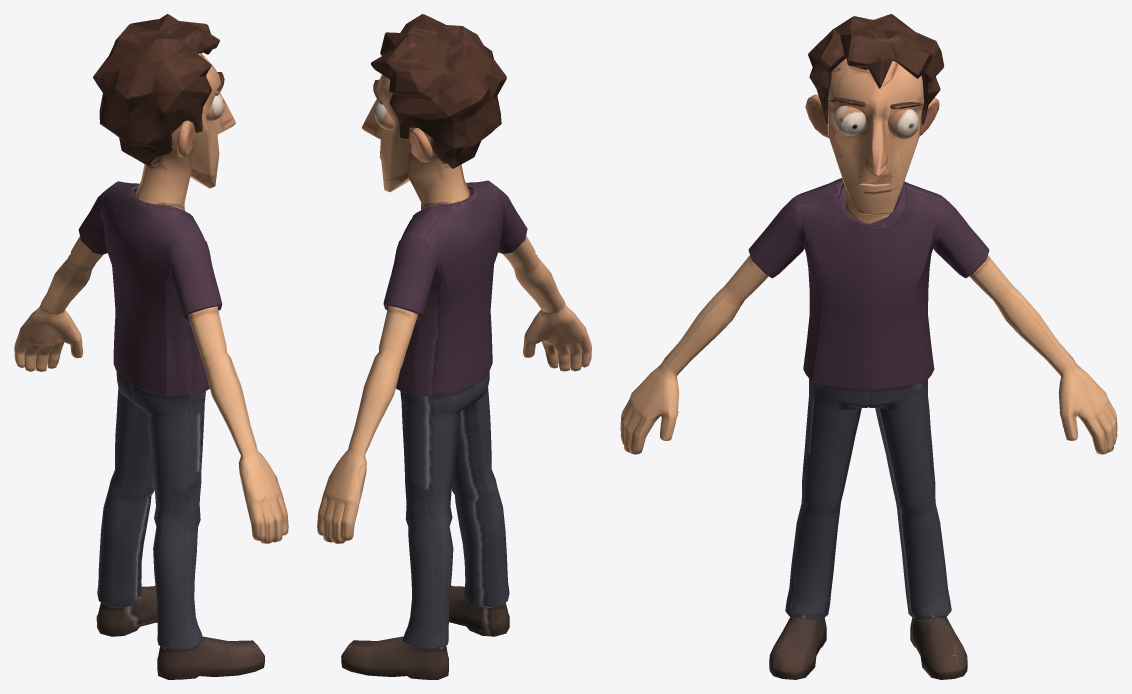
3 views of the same model, side by side, from view 1: azimuth 30°, elevation 25°; view 2: azimuth 150°, elevation 25°; view 3: azimuth 270°, elevation 25° (orthographic).
Parts seen in each view (by area): view 1: tripo_node_646c8c7a; view 2: tripo_node_646c8c7a; view 3: tripo_node_646c8c7a.
Boxes of the visible parts, x1,y1,x2,y2 form: tripo_node_646c8c7a: (14,14,288,679); tripo_node_646c8c7a: (317,14,591,679); tripo_node_646c8c7a: (620,14,1117,679).
Bounding box in the file's own units: 0.2212 × 0.9995 × 0.7144.
1 material, 1 textured.
